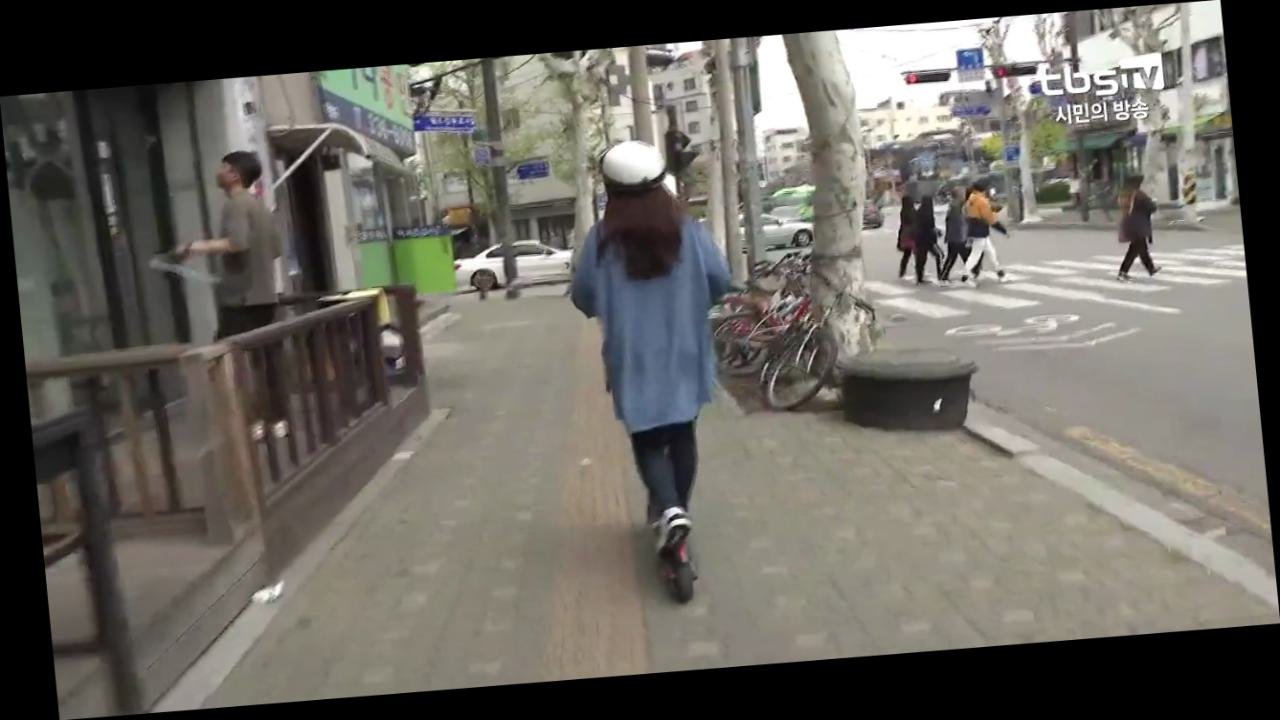helmet: (551, 133, 767, 610)
